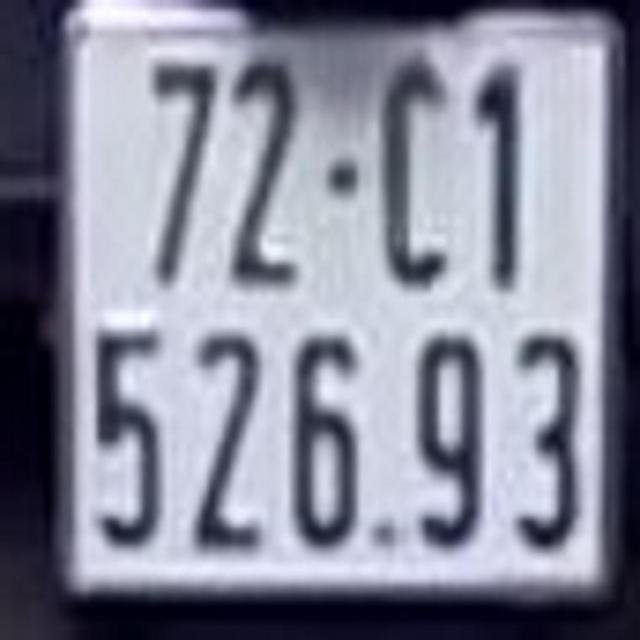1: (471, 52, 528, 292)
2: (227, 54, 305, 286), (187, 322, 264, 546)
3: (514, 327, 584, 552)
5: (90, 324, 165, 546)
6: (287, 330, 362, 545)
7: (147, 50, 217, 285)
9: (416, 326, 486, 548)
C: (375, 49, 456, 287)
